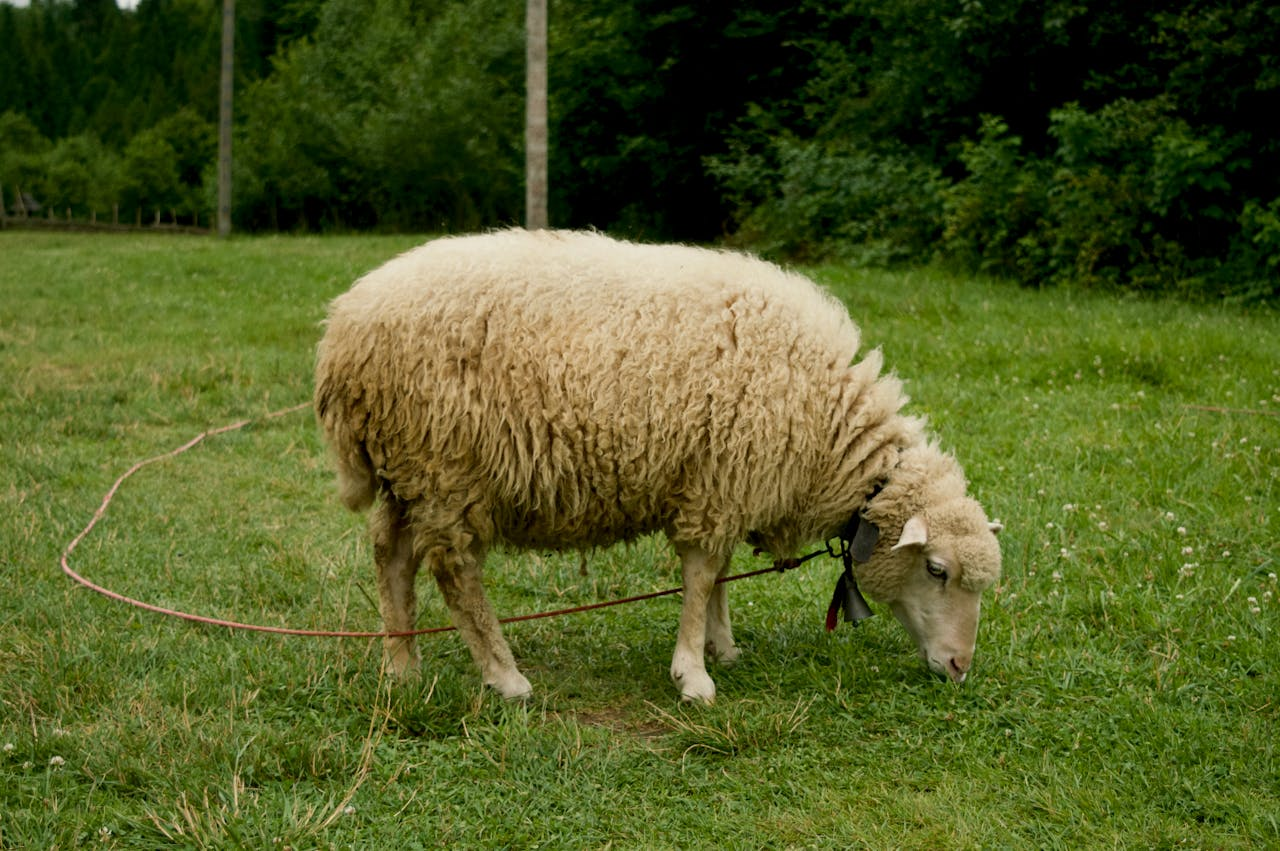sheep: (297, 158, 1013, 721)
